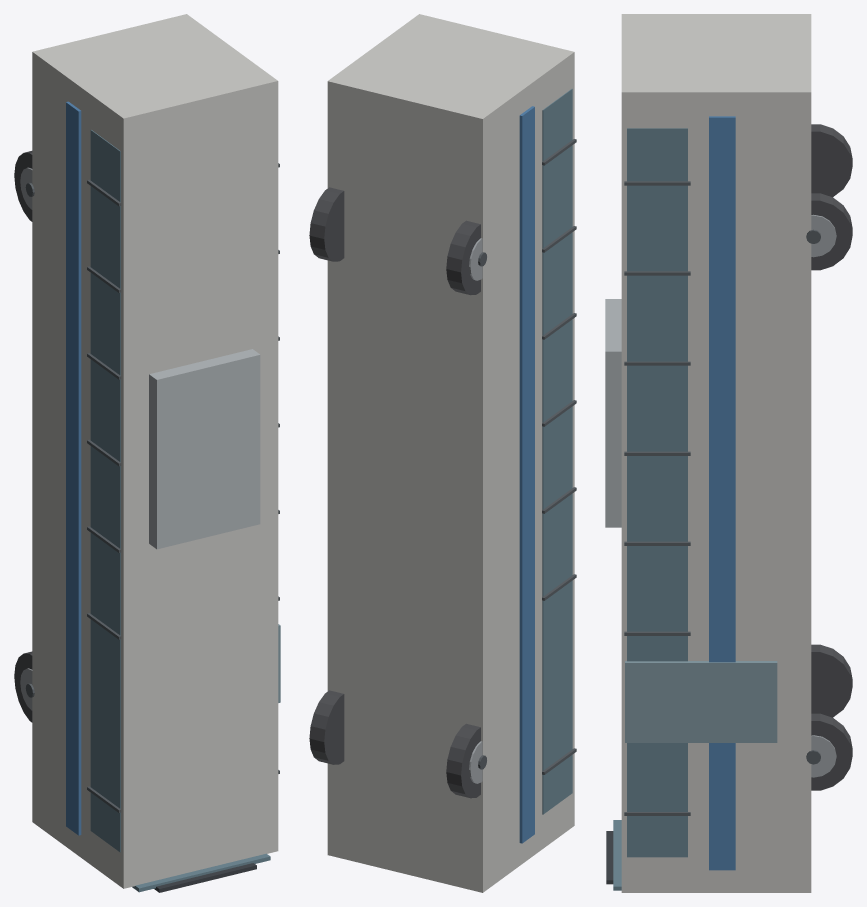
Rendered from standard_city_bus.glb.
The picture shows the model from 3 angles, left to right: view 1: azimuth 30°, elevation 25°; view 2: azimuth 150°, elevation 25°; view 3: azimuth 270°, elevation 25°; orthographic projection. The views are drawn at different scales.
Parts seen in each view (by area): view 1: 0000_Bus_body, 0001_Bus_window_band, 0021_Roof_AC, 0002_Transit_blue_livery, 0004_Front_windshield, 0005_Destination_display, 0022_Wheel_tire, 0028_Wheel_tire; view 2: 0000_Bus_body, 0001_Bus_window_band, 0002_Transit_blue_livery, 0031_Wheel_tire, 0025_Wheel_tire, 0022_Wheel_tire, 0028_Wheel_tire; view 3: 0000_Bus_body, 0001_Bus_window_band, 0003_Transit_blue_livery, 0006_Passenger_doors, 0021_Roof_AC, 0022_Wheel_tire, 0028_Wheel_tire, 0025_Wheel_tire, 0031_Wheel_tire, 0026_Wheel_rim, 0032_Wheel_rim, 0004_Front_windshield.
Boxes of the visible parts, x1,y1,x2,y2 form: 0000_Bus_body: (32, 14, 278, 888); 0001_Bus_window_band: (90, 130, 120, 852); 0021_Roof_AC: (149, 349, 260, 549); 0002_Transit_blue_livery: (66, 101, 81, 835); 0004_Front_windshield: (132, 853, 270, 892); 0005_Destination_display: (154, 863, 256, 892); 0022_Wheel_tire: (14, 651, 32, 722); 0028_Wheel_tire: (14, 151, 32, 221); 0000_Bus_body: (327, 14, 574, 892); 0001_Bus_window_band: (542, 88, 572, 814); 0002_Transit_blue_livery: (519, 106, 534, 843); 0031_Wheel_tire: (309, 187, 344, 261); 0025_Wheel_tire: (309, 690, 344, 764); 0022_Wheel_tire: (446, 723, 480, 798); 0028_Wheel_tire: (446, 220, 480, 295); 0000_Bus_body: (621, 14, 811, 892); 0001_Bus_window_band: (627, 128, 687, 857); 0003_Transit_blue_livery: (709, 116, 735, 870); 0006_Passenger_doors: (625, 661, 777, 742); 0021_Roof_AC: (605, 299, 621, 527); 0022_Wheel_tire: (811, 644, 852, 717); 0028_Wheel_tire: (811, 124, 852, 197); 0025_Wheel_tire: (811, 713, 852, 790); 0031_Wheel_tire: (811, 193, 852, 270); 0026_Wheel_rim: (811, 735, 836, 777); 0032_Wheel_rim: (811, 214, 836, 257); 0004_Front_windshield: (613, 820, 621, 890).
Size of the model in its own units: 2.64 by 12.09 by 3.36.
